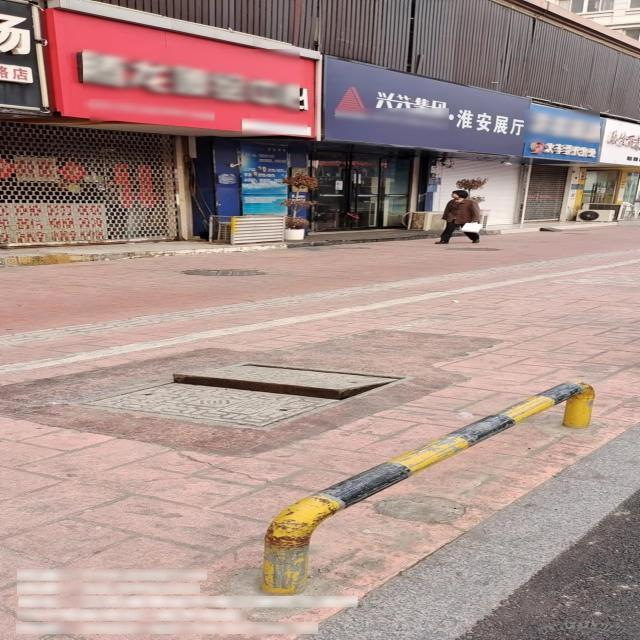Faulty: (74, 361, 408, 434)
